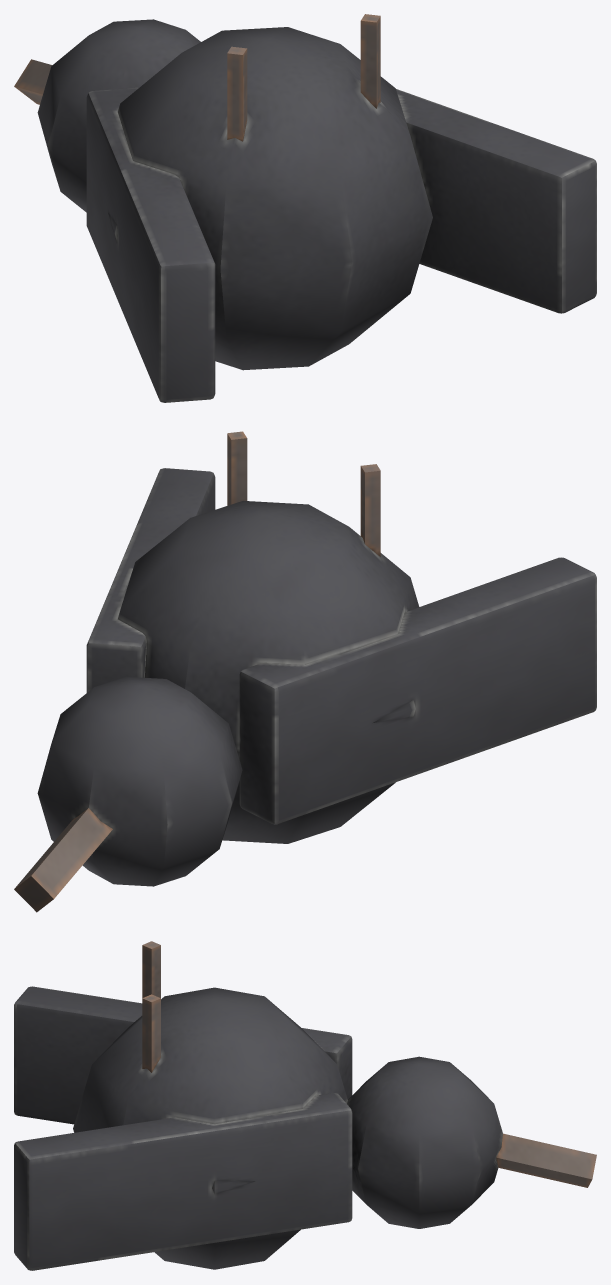
Rendered from frozen_crow.glb.
The picture shows the model from 3 angles, top to bottom: view 1: azimuth 30°, elevation 25°; view 2: azimuth 150°, elevation 25°; view 3: azimuth 270°, elevation 25°; orthographic projection. The views are drawn at different scales.
Parts seen in each view (by area): view 1: frozen_crow; view 2: frozen_crow; view 3: frozen_crow.
Boxes of the visible parts, x1,y1,x2,y2 form: frozen_crow: (14,14,596,402); frozen_crow: (14,431,596,912); frozen_crow: (14,941,596,1270).
Bounding box in the file's own units: 0.2614 × 0.2 × 0.3704.
1 material, 1 textured.
